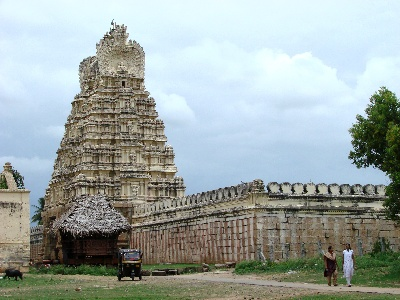gopura: (33, 72, 198, 216)
